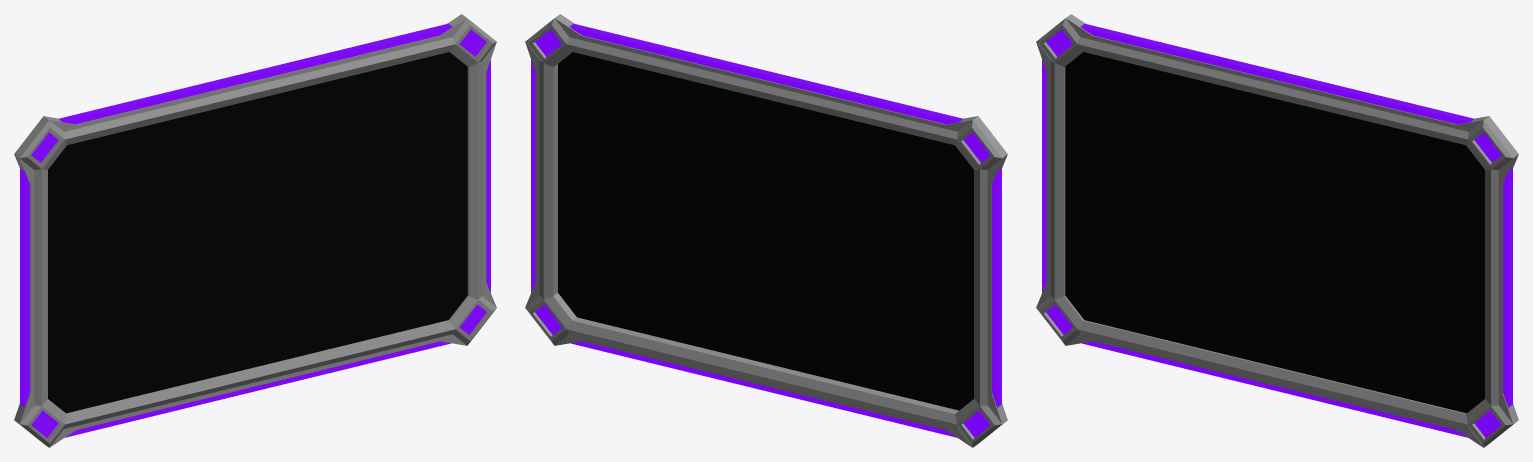
File: Menu3D_Panel_Long.glb
The picture shows the model from 3 angles, left to right: view 1: azimuth 30°, elevation 25°; view 2: azimuth 150°, elevation 25°; view 3: azimuth 330°, elevation 25°; orthographic projection.
Visible parts, largest first — view 1: MenuPanel3D; view 2: MenuPanel3D; view 3: MenuPanel3D.
Part boxes in pixels (left/top/right/bottom): MenuPanel3D: left=14, top=14, right=496, bottom=447; MenuPanel3D: left=525, top=14, right=1007, bottom=447; MenuPanel3D: left=1036, top=14, right=1518, bottom=447.
Bounding box in the file's own units: 2.91 × 1.91 × 0.0994.
1 material, 1 textured.
